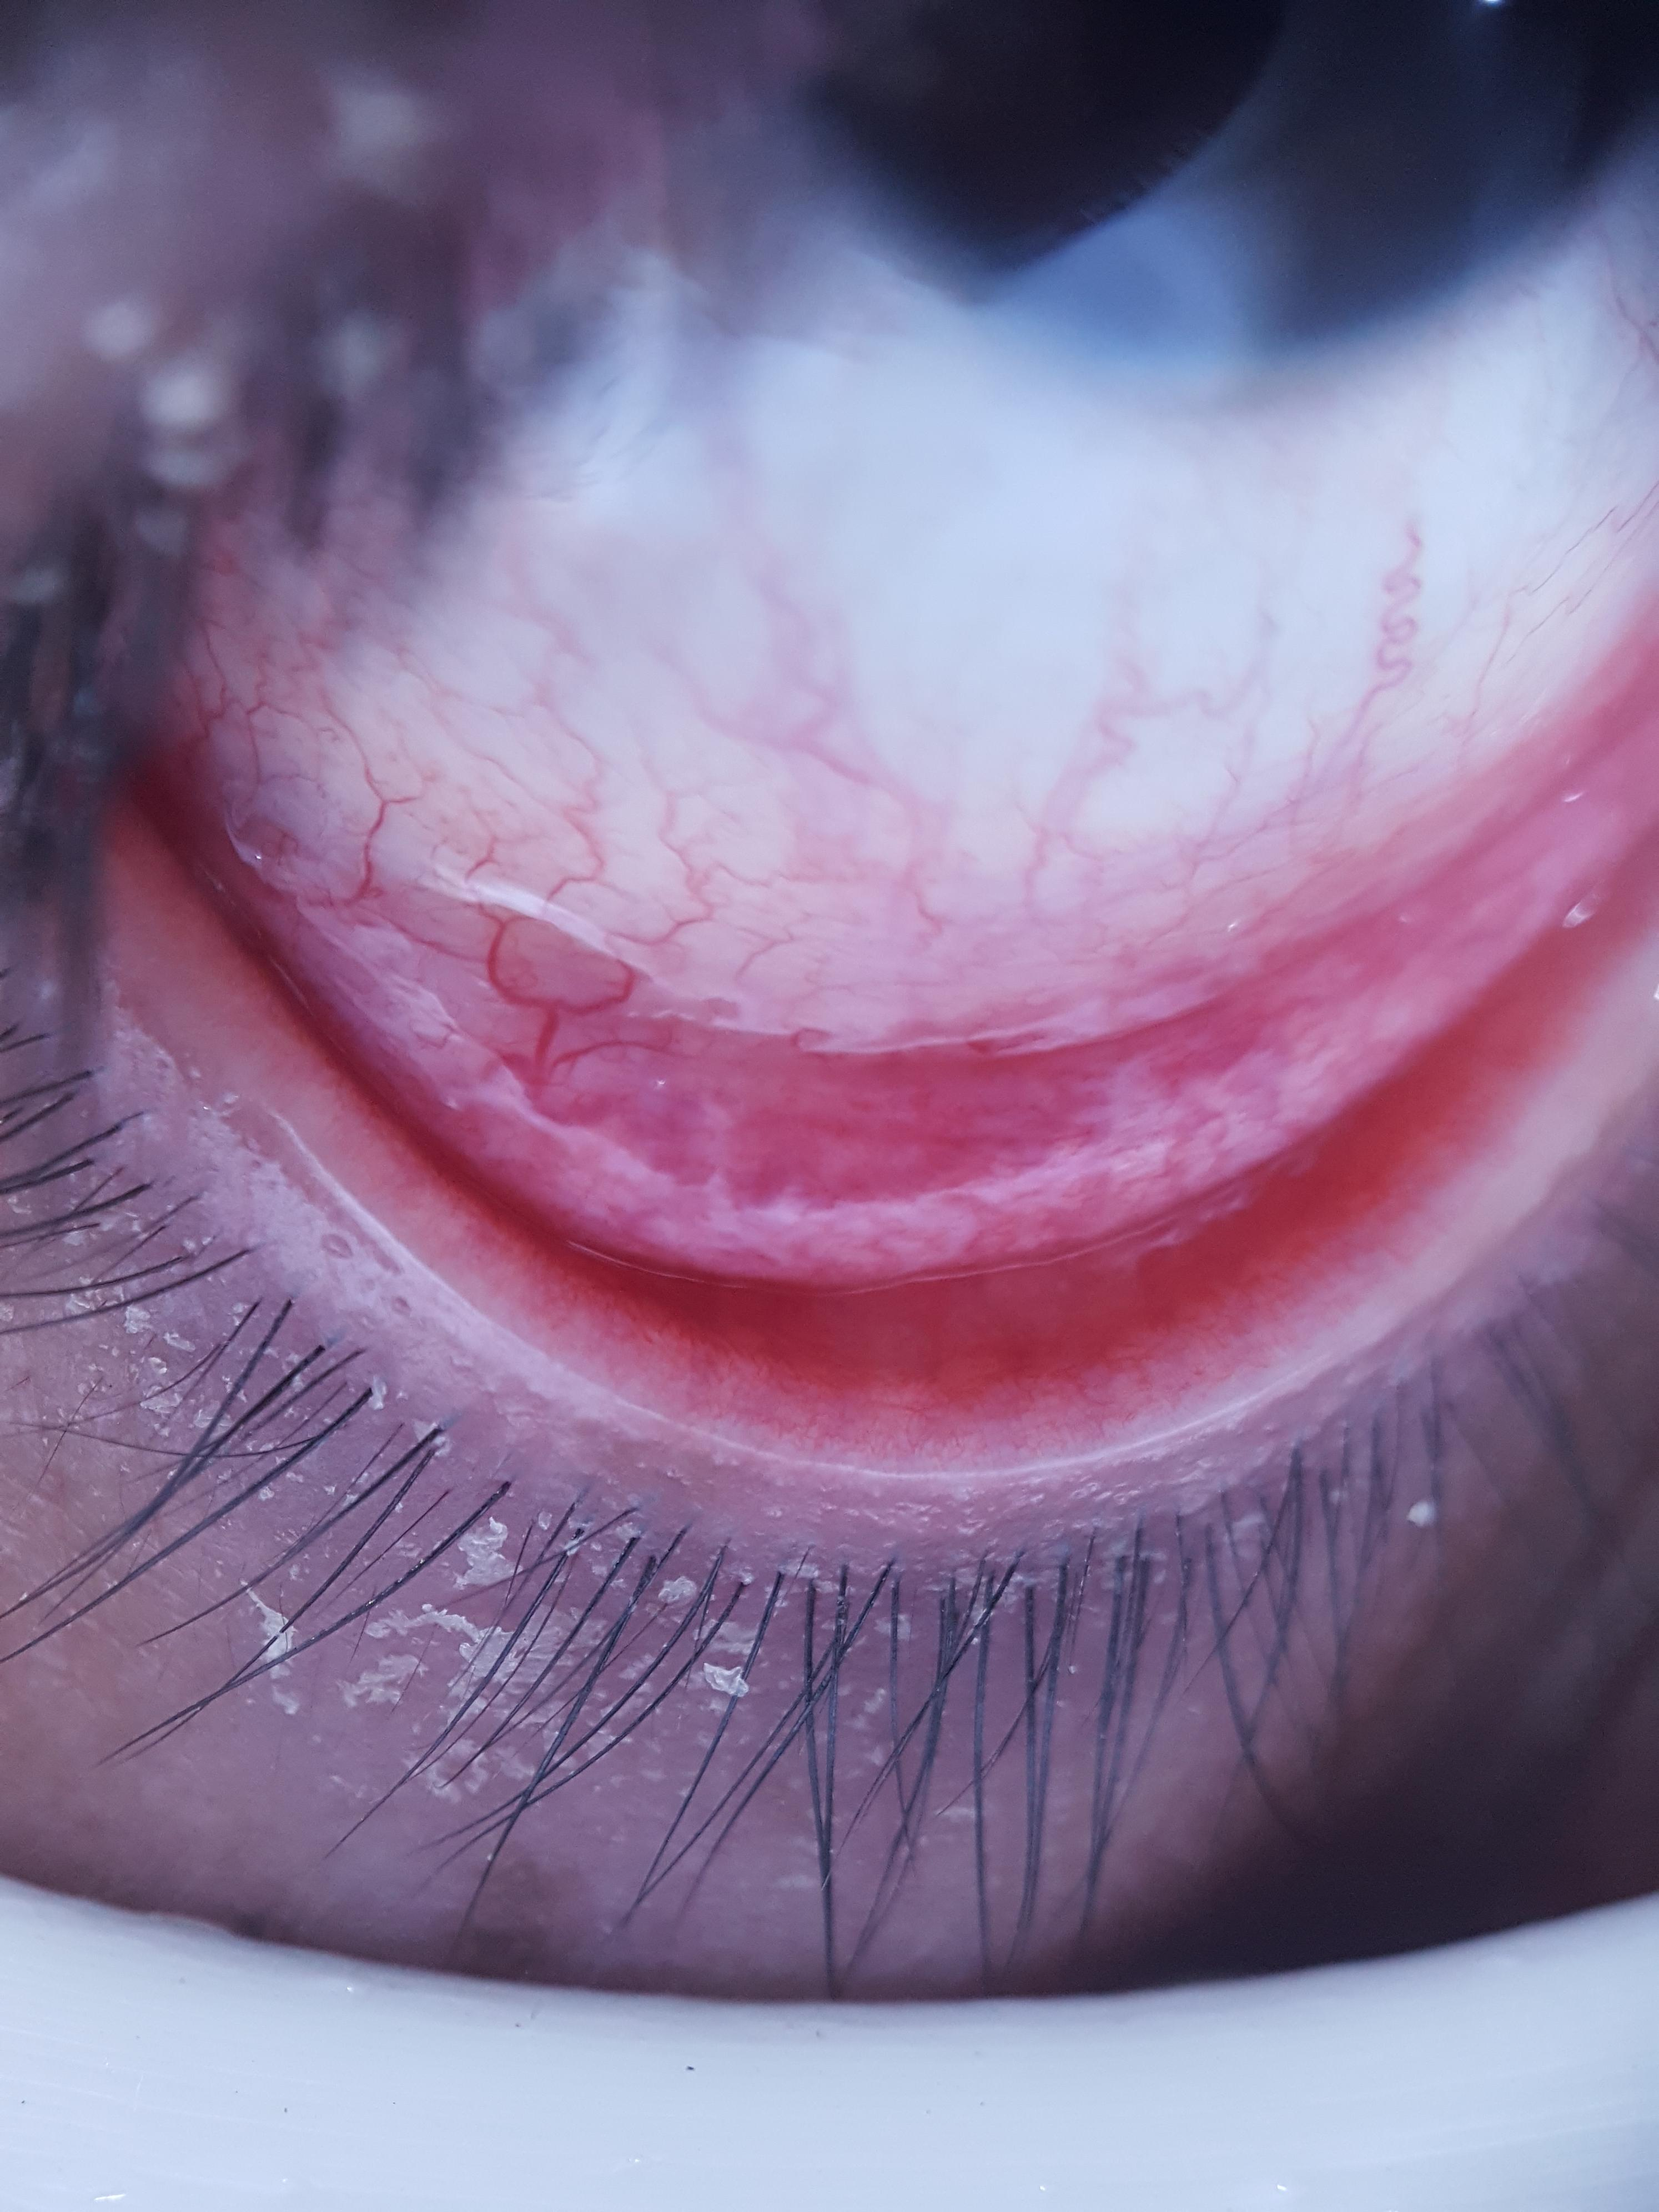forniceal: (153, 604, 1657, 1289)
forniceal_palpebral: (132, 597, 1659, 1440)
palpebral: (146, 810, 1659, 1432)
